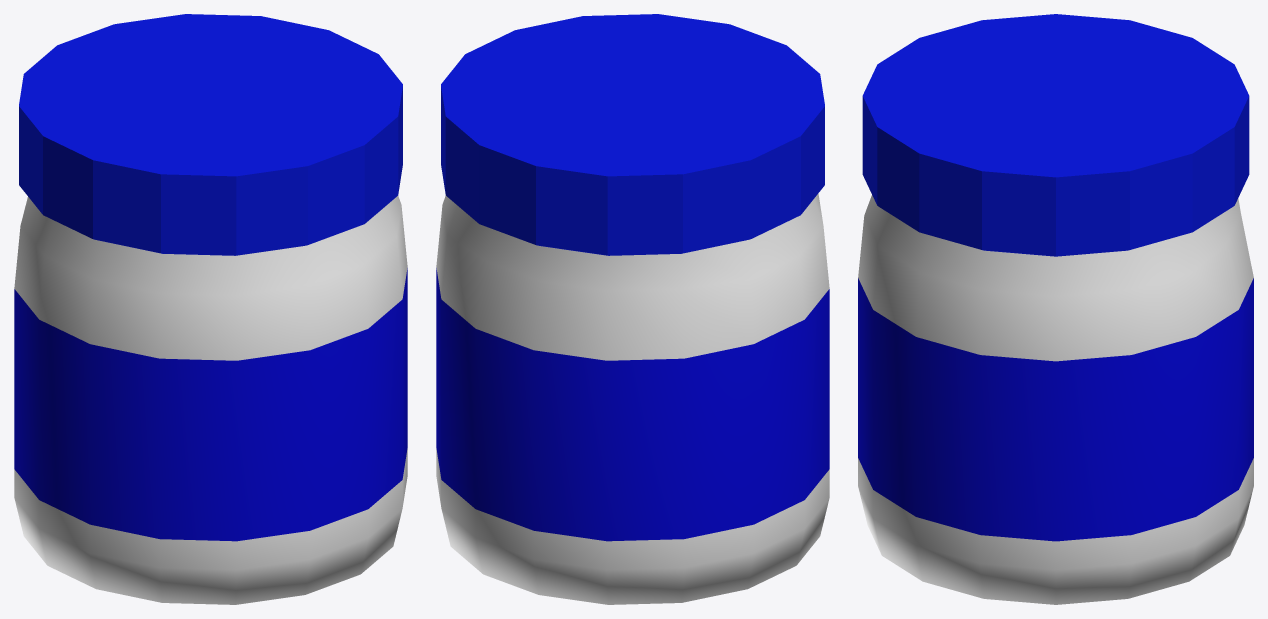
The model's file is Mayo.fbx.
3 views of the same model, side by side, from view 1: azimuth 30°, elevation 25°; view 2: azimuth 150°, elevation 25°; view 3: azimuth 270°, elevation 25° (orthographic).
Parts seen in each view (by area): view 1: Cylinder, Cylinder.001; view 2: Cylinder, Cylinder.001; view 3: Cylinder, Cylinder.001.
Part boxes in pixels (x1,y1,x2,y2): Cylinder: (14,196,407,604); Cylinder.001: (19,14,402,255); Cylinder: (436,194,829,604); Cylinder.001: (441,14,824,255); Cylinder: (858,195,1253,604); Cylinder.001: (862,14,1249,256).
Bounding box in the file's own units: 200 × 240 × 200.
